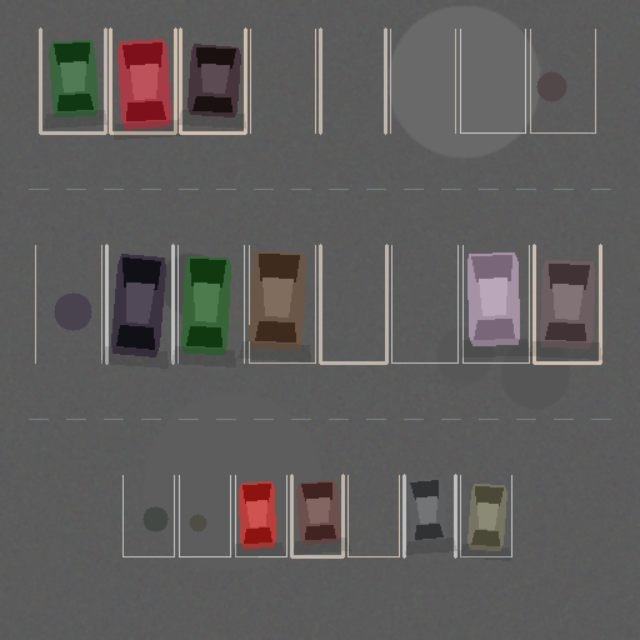space-empty: (391, 245, 458, 362), (35, 245, 101, 362), (320, 245, 386, 362), (250, 29, 315, 133), (320, 29, 385, 133), (390, 29, 455, 133), (460, 29, 525, 133), (530, 29, 595, 133), (122, 475, 174, 556), (179, 475, 230, 556), (348, 475, 399, 556)
space-occupied: (462, 245, 529, 362), (106, 245, 172, 362), (178, 245, 244, 362), (249, 245, 315, 362), (534, 245, 600, 362), (40, 29, 105, 133), (110, 29, 175, 133), (180, 29, 245, 133), (235, 475, 286, 556), (291, 475, 342, 556), (404, 475, 455, 556), (460, 475, 511, 556)
